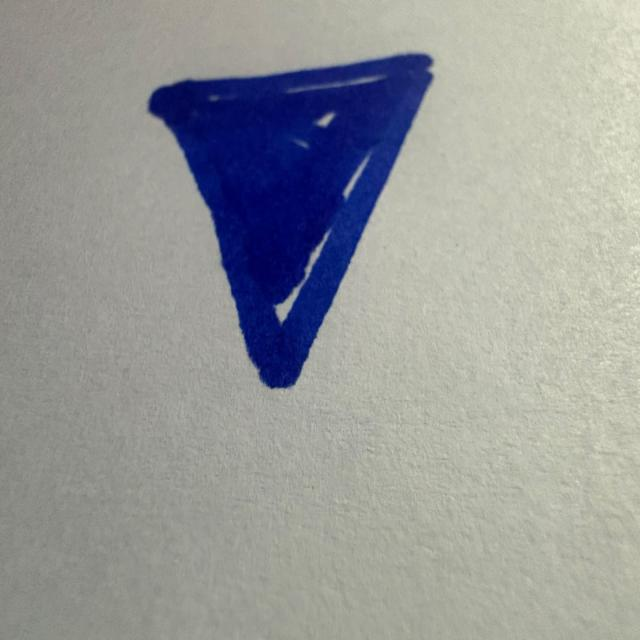Triangle: (149, 54, 432, 388)
